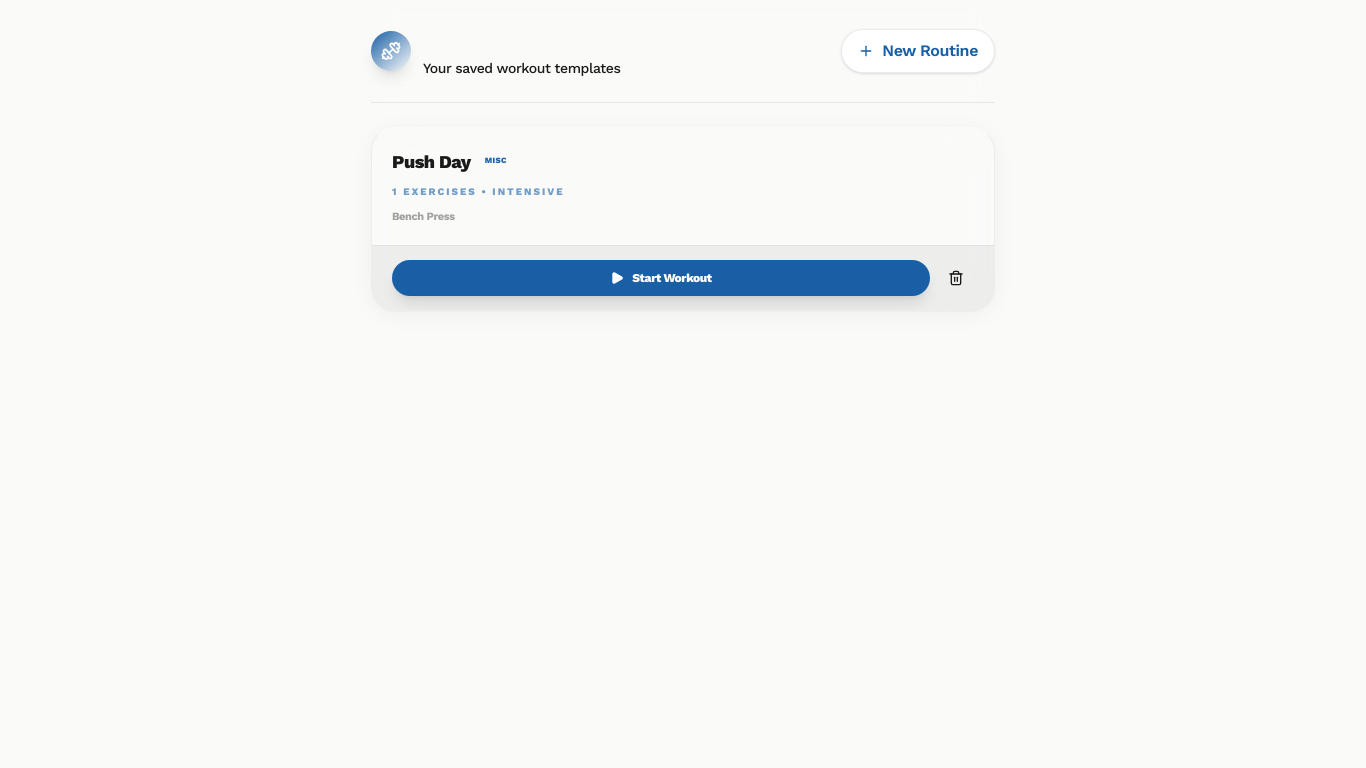
Test: RoutinesTab Component › allows adding and removing exercises in create view
Expected: the text "New Routine" is shown, [882,38,978,64]
Click the button "New Routine" at [918, 51], box [841,29,995,73]
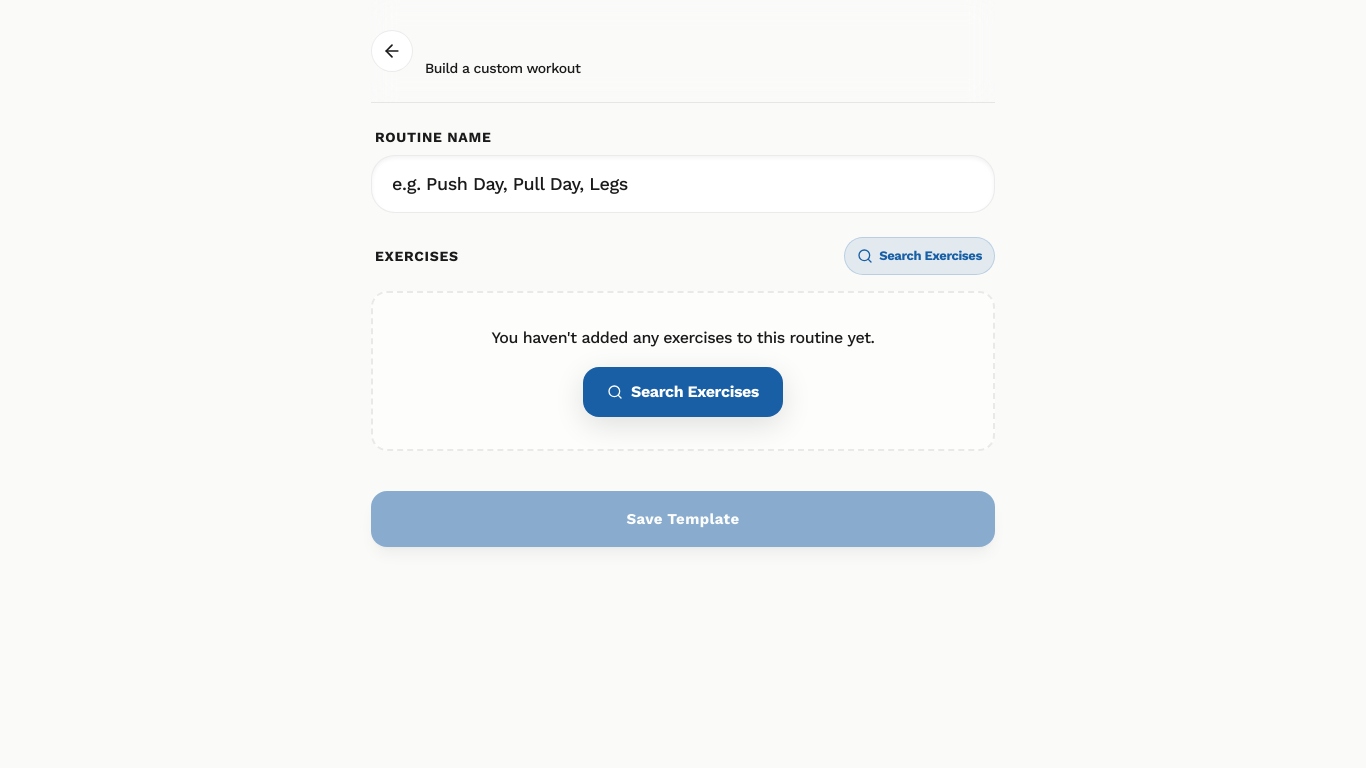
Open exercise search
Click the 1st button "Search Exercises" at [920, 256], box [844,237,995,275]
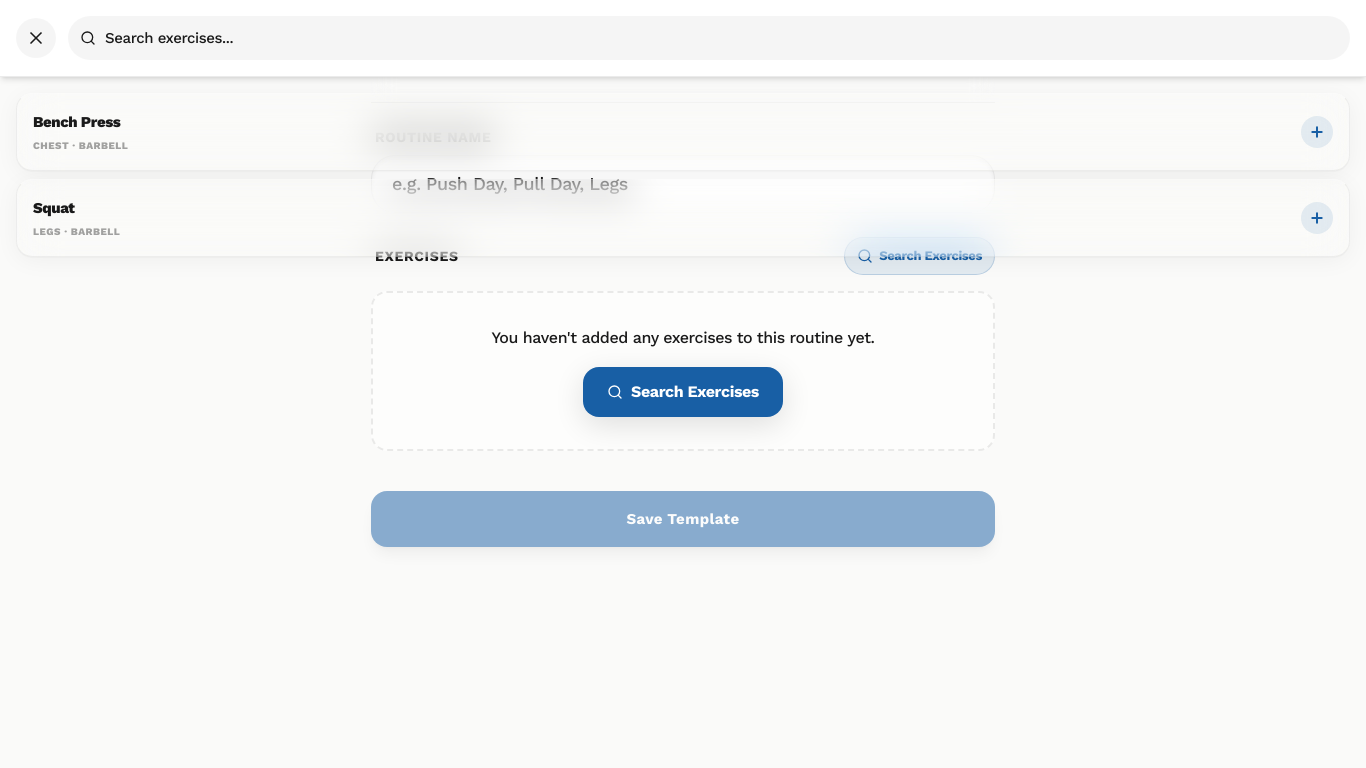
Select Bench Press
Click the heading "Bench Press" at [81, 122], box [33,110,128,134]
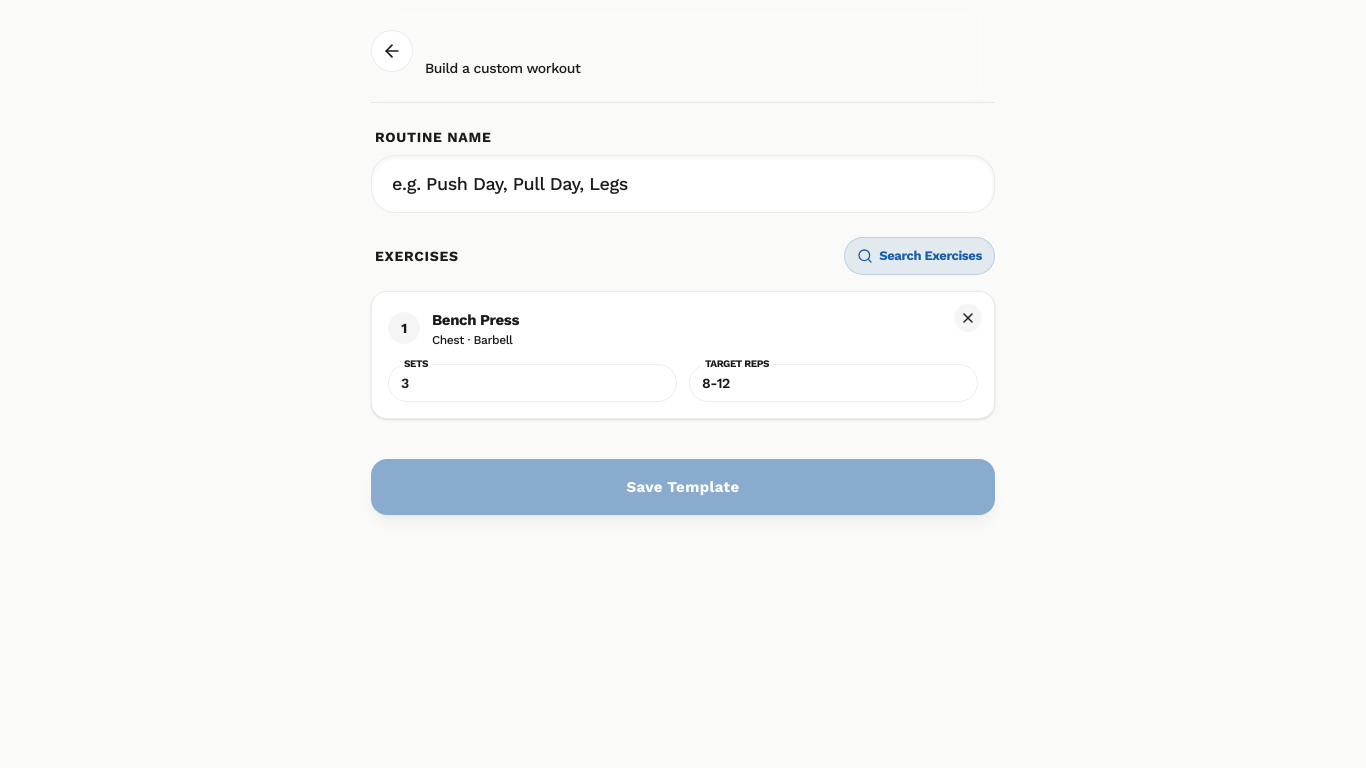
Result: the heading "Bench Press" is shown at [432,308,519,332]
Remove it
Click the button with test id "remove-exercise-0" at [968, 318], box [954,304,982,332]
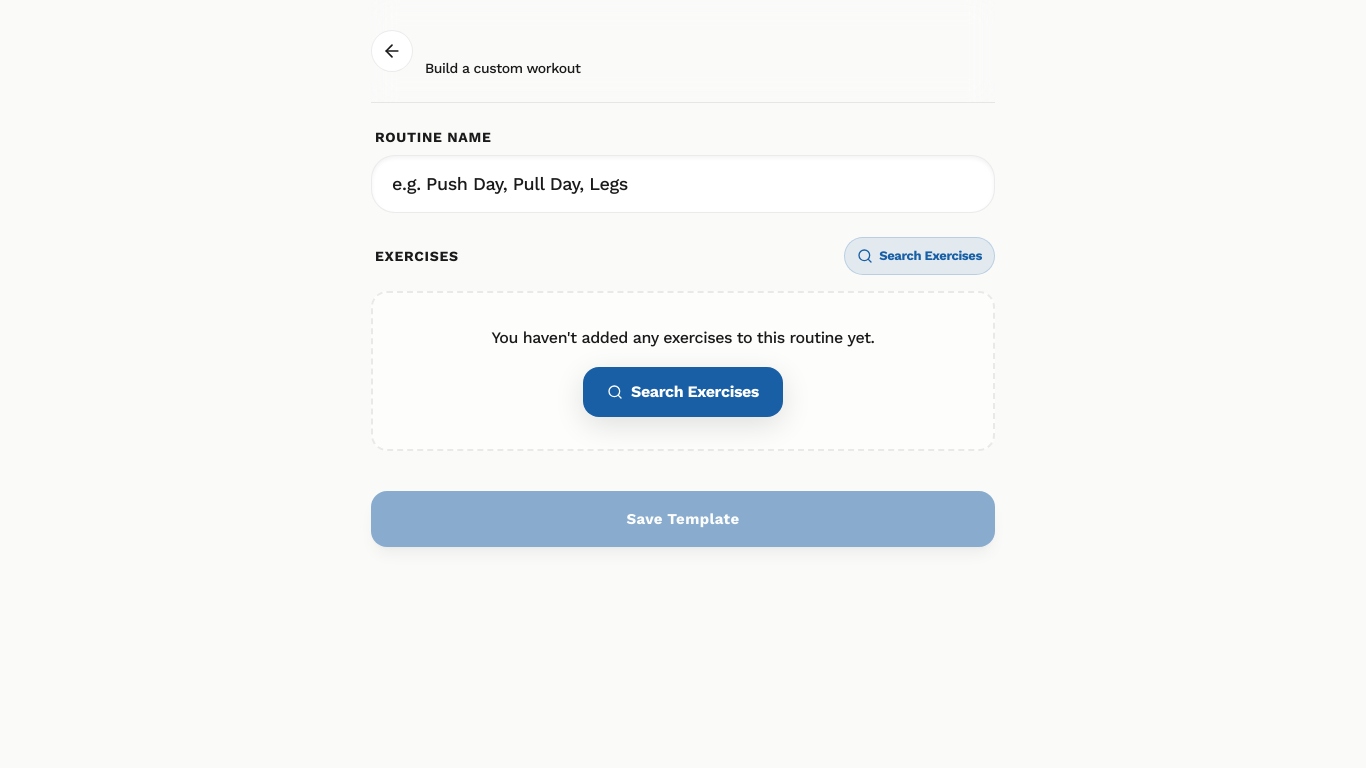
Result: the heading "Bench Press" is gone
